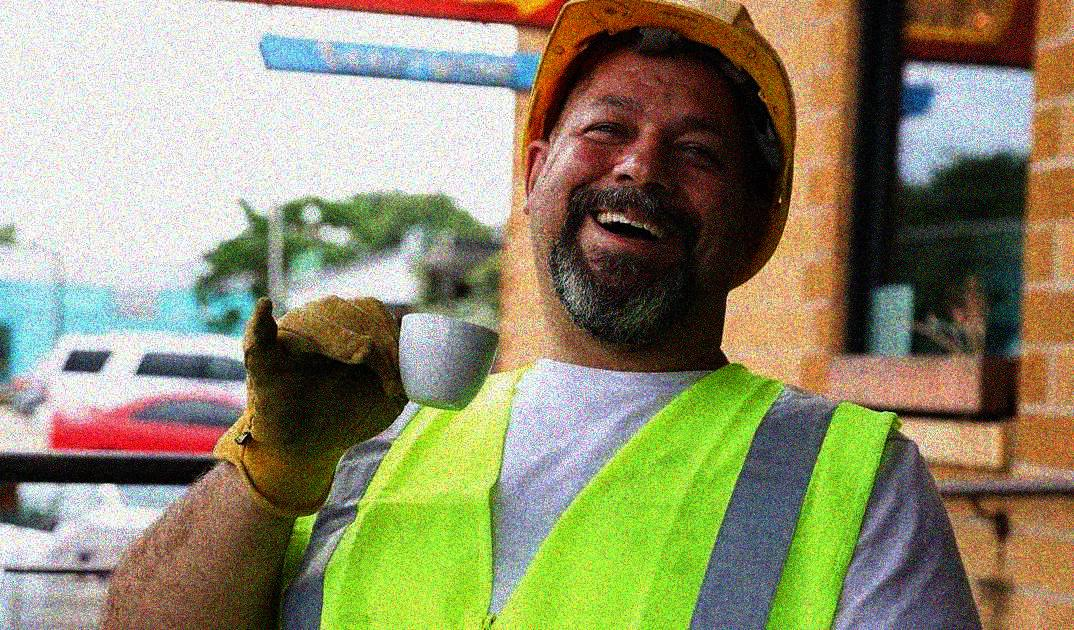helmet: (523, 1, 800, 345)
